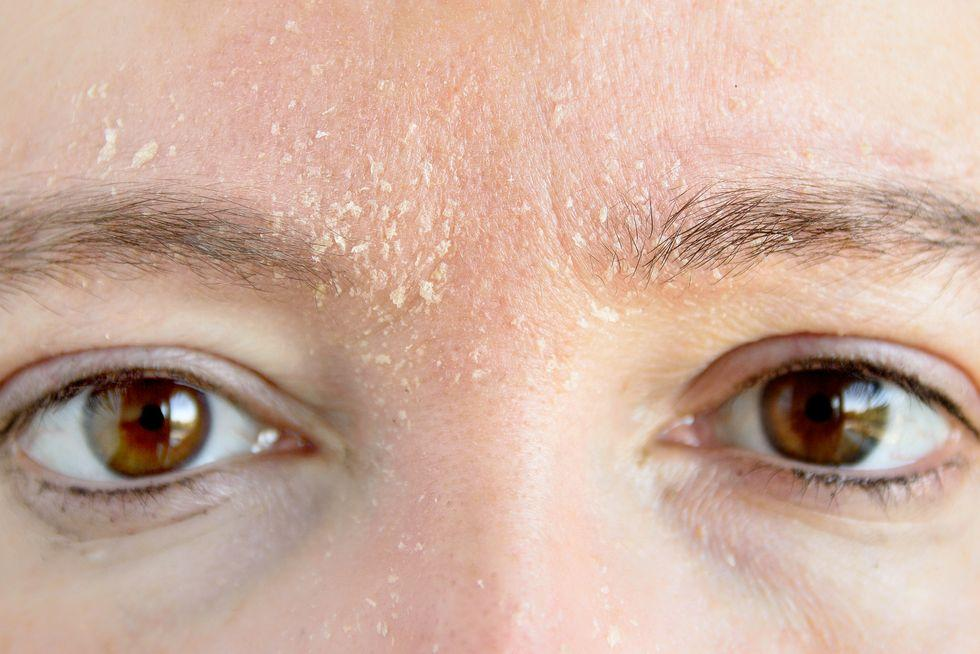Dry-Skin: (315, 161, 636, 382), (151, 47, 694, 154)
